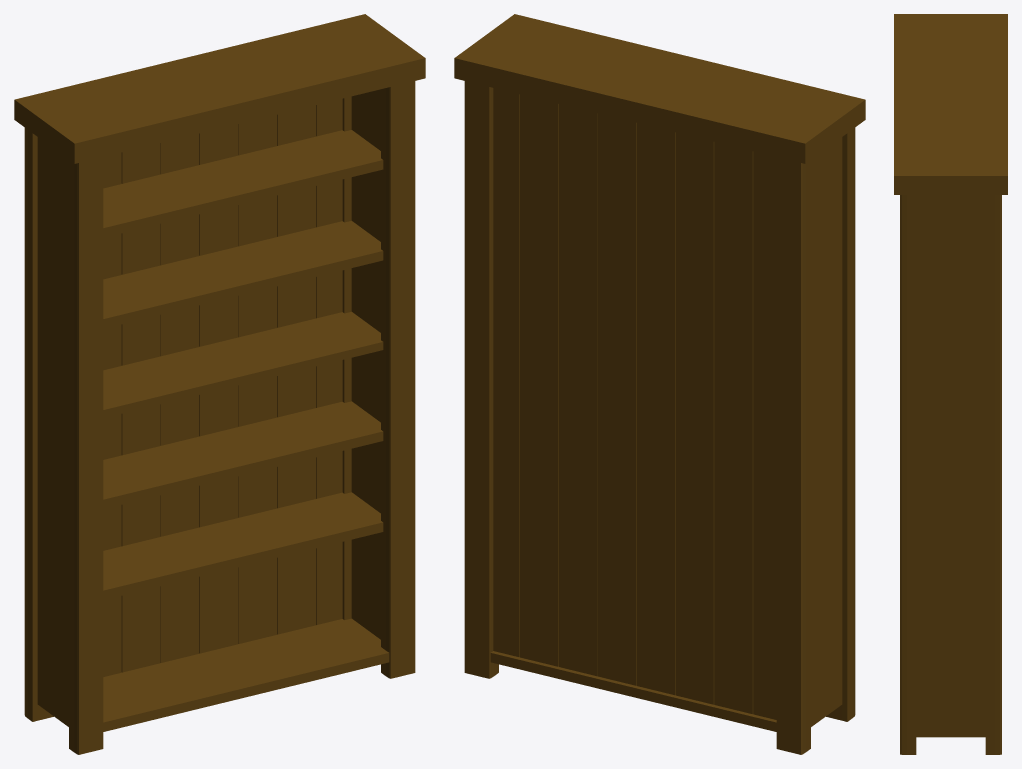
Rendered from BookShelf_7.fbx.
3 views of the same model, side by side, from view 1: azimuth 30°, elevation 25°; view 2: azimuth 150°, elevation 25°; view 3: azimuth 270°, elevation 25° (orthographic). The views are drawn at different scales.
Visible parts, largest first — view 1: BookShelf7; view 2: BookShelf7; view 3: BookShelf7.
Part boxes in pixels (bbox=[...]): BookShelf7: bbox=[14, 14, 425, 754]; BookShelf7: bbox=[454, 14, 865, 754]; BookShelf7: bbox=[894, 14, 1007, 754].
Size of the model in its own units: 374 by 627 by 111.
